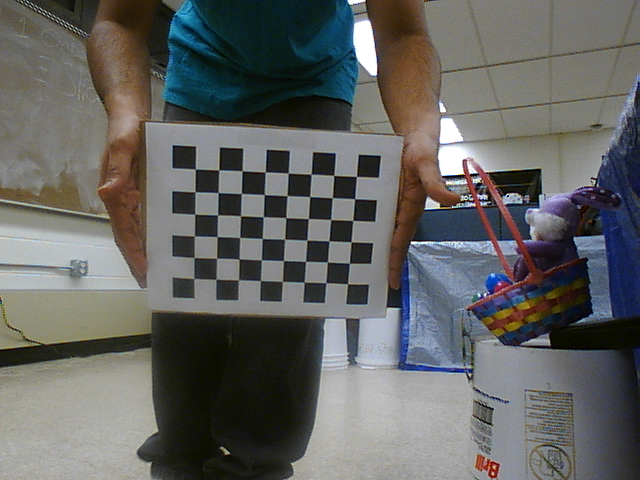bunny: (453, 156, 608, 348)
